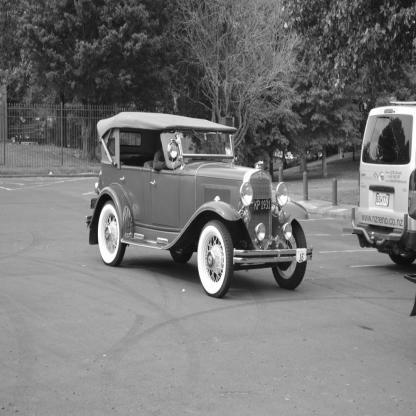car: (80, 103, 325, 299)
